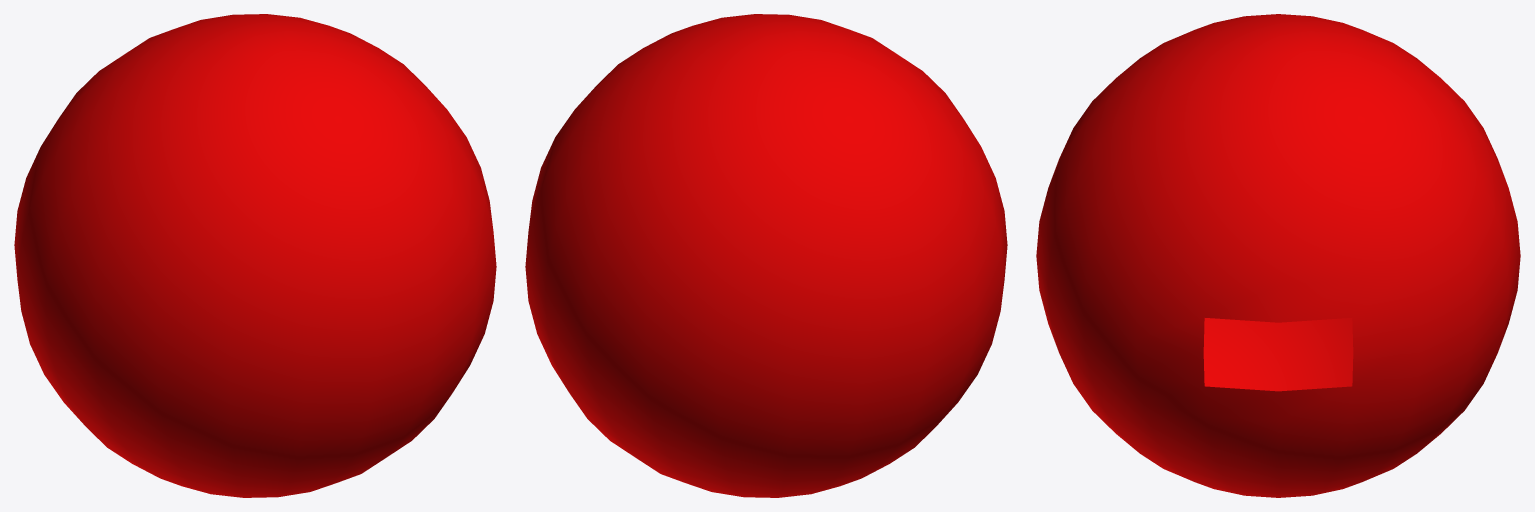
File: Heartroom.fbx
3 renders of one model, left to right at view 1: azimuth 30°, elevation 25°; view 2: azimuth 150°, elevation 25°; view 3: azimuth 270°, elevation 25°, orthographic.
Visible parts, largest first — view 1: pSphere1; view 2: pSphere1; view 3: pSphere1.
Boxes of the visible parts, x1,y1,x2,y2 form: pSphere1: [14, 14, 496, 497]; pSphere1: [525, 14, 1007, 497]; pSphere1: [1036, 14, 1520, 497].
Bounding box in the file's own units: 9.04 × 9.1 × 9.1.
